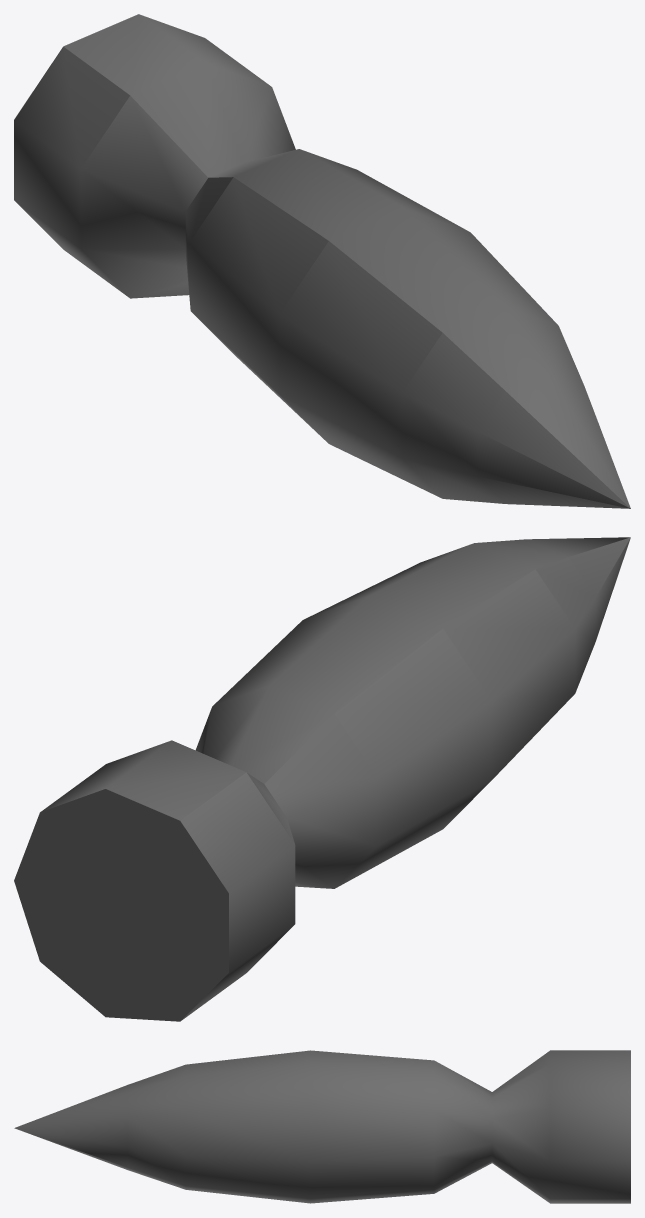
The model's file is mortar.fbx.
3 views of the same model, one above another, from view 1: azimuth 30°, elevation 25°; view 2: azimuth 150°, elevation 25°; view 3: azimuth 270°, elevation 25° (orthographic). The views are drawn at different scales.
Visible parts, largest first — view 1: mount; view 2: mount; view 3: mount.
Part boxes in pixels (x1,y1,x2,y2): mount: (14, 14, 630, 508); mount: (14, 537, 630, 1021); mount: (14, 1050, 630, 1203).
Bounding box in the file's own units: 1.63 × 1.65 × 6.64.
Materials: 1 (1 with a texture image).
